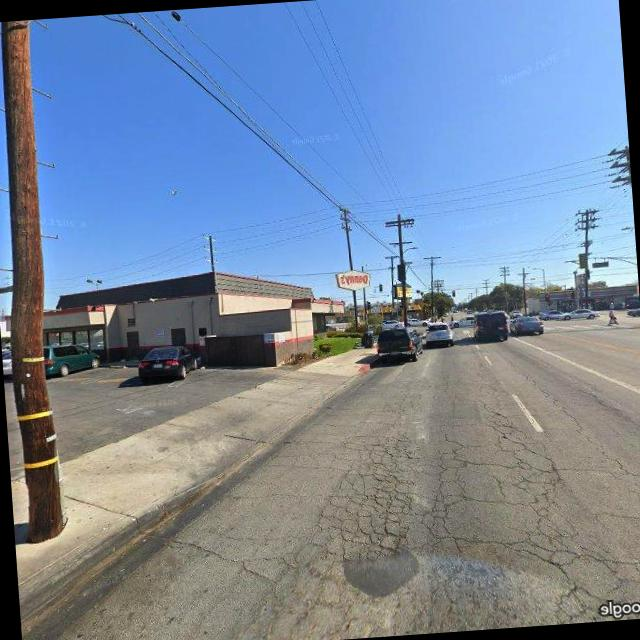crack: (208, 382, 631, 640)
pothole: (528, 362, 640, 493)
